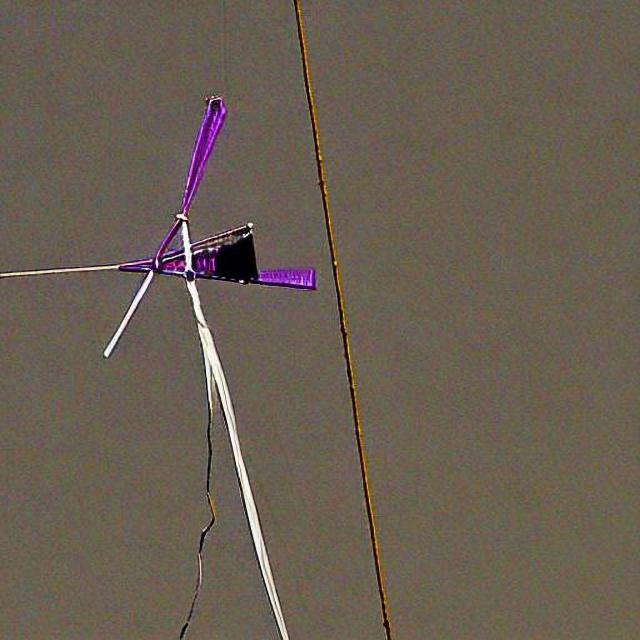floating object: (141, 92, 226, 308)
